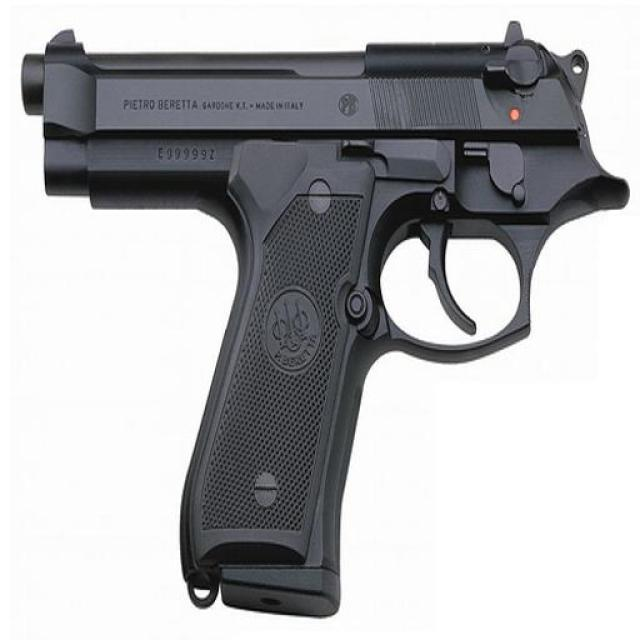pistol: (21, 22, 631, 620)
